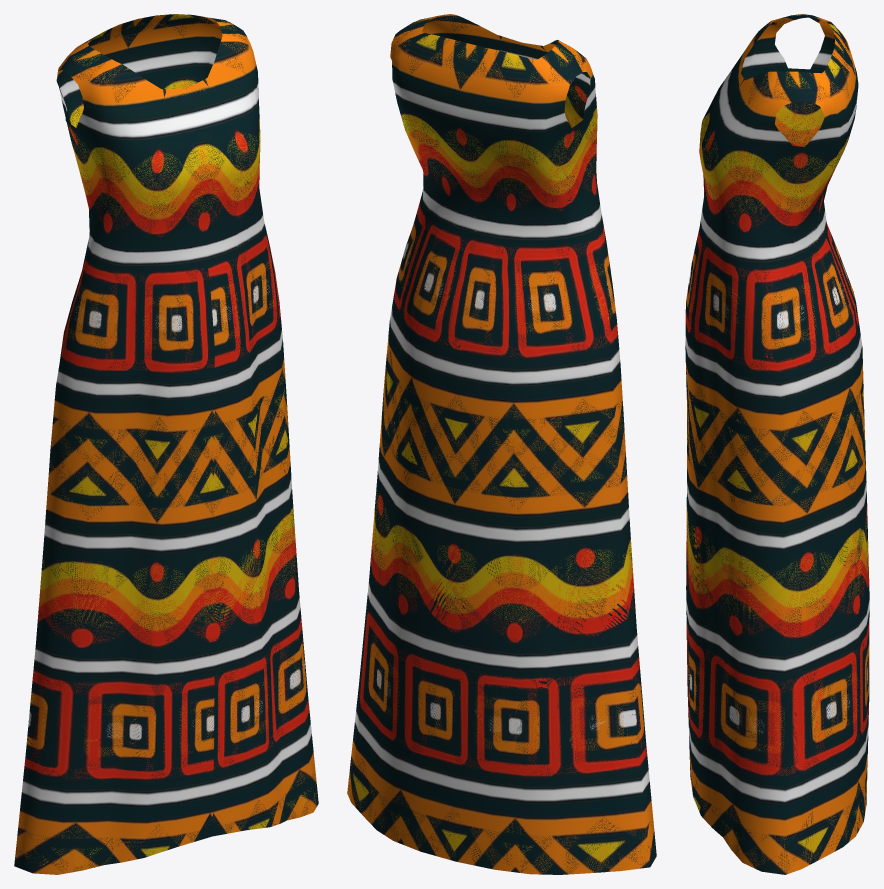
Rendered from mdl_brush_dress1.gltf.
3 views of the same model, side by side, from view 1: azimuth 30°, elevation 25°; view 2: azimuth 150°, elevation 25°; view 3: azimuth 270°, elevation 25° (orthographic). The views are drawn at different scales.
Visible parts, largest first — view 1: dress, dress.001; view 2: dress, dress.001; view 3: dress, dress.001.
Part boxes in pixels (x1,y1,x2,y2): dress: (14, 14, 318, 874); dress.001: (15, 14, 316, 874); dress: (347, 14, 656, 874); dress.001: (348, 14, 655, 874); dress: (685, 14, 869, 874); dress.001: (685, 14, 869, 874).
Bounding box in the file's own units: 0.7694 × 1.95 × 0.4264.
Materials: 1 (1 with a texture image).
